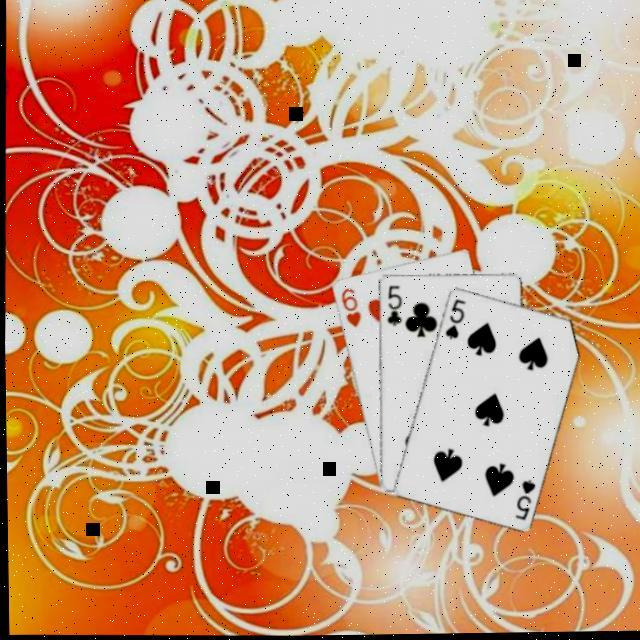5C: (383, 280, 405, 326)
5S: (511, 475, 539, 522), (441, 294, 469, 340)
6H: (337, 283, 365, 328)
